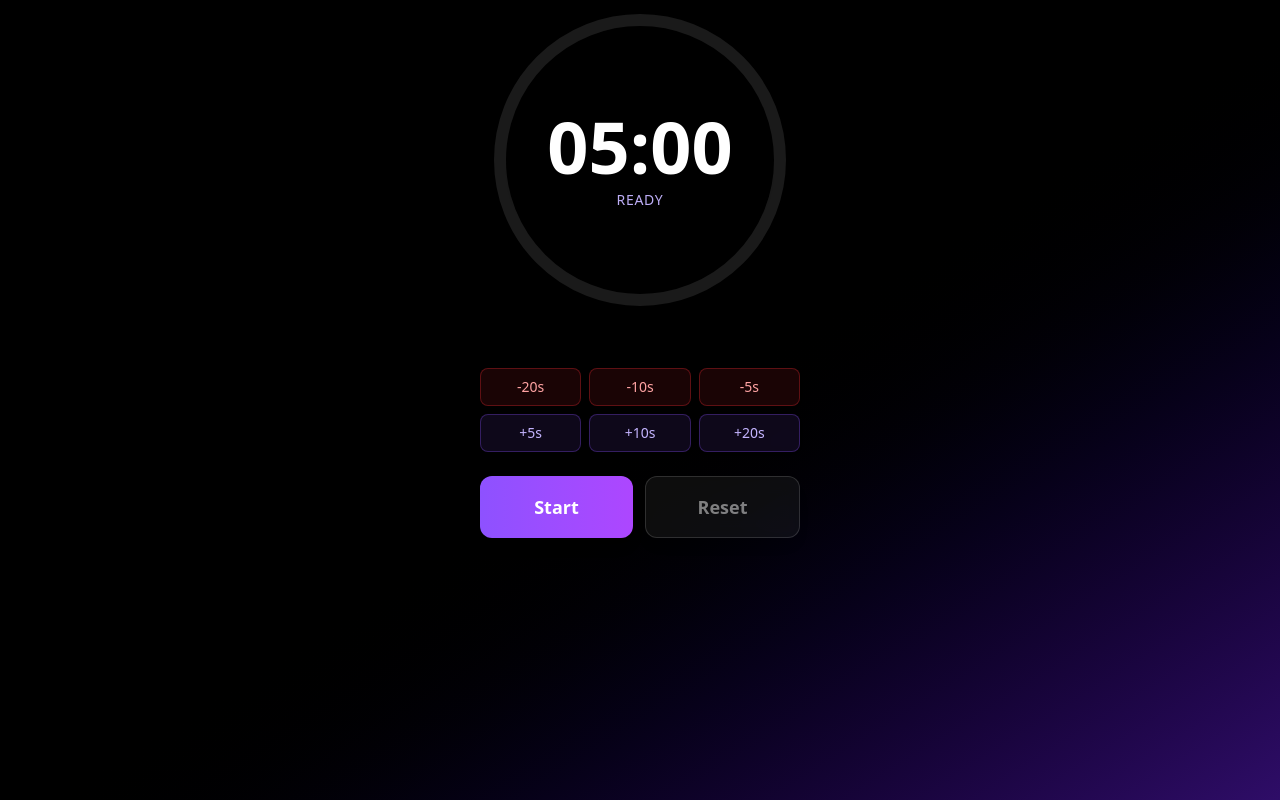
Scenario: Pomodoro Timer › 1. starts the timer › shows "Focus Time" status while running
Click the button "Start": (556, 507) [480,476,633,538]
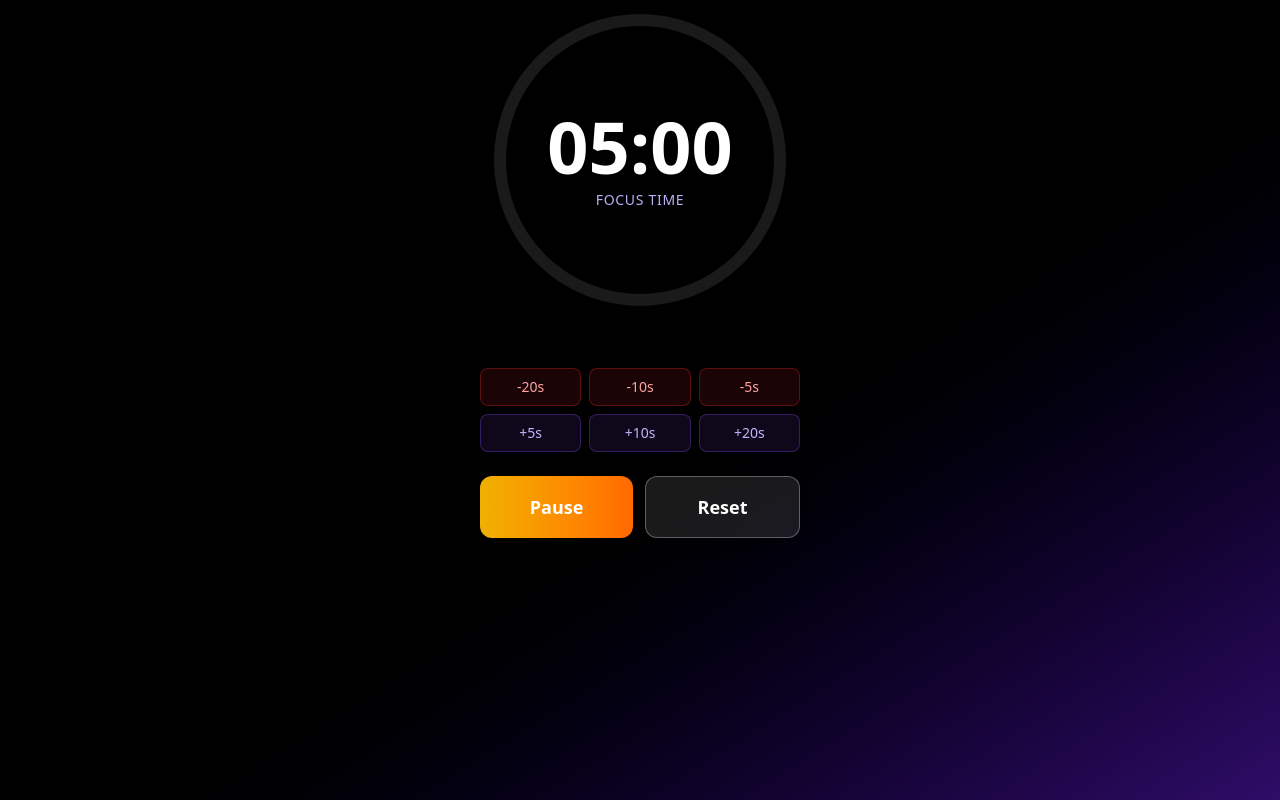
Check: the text "Focus Time" is shown, box [596,190,684,209]
